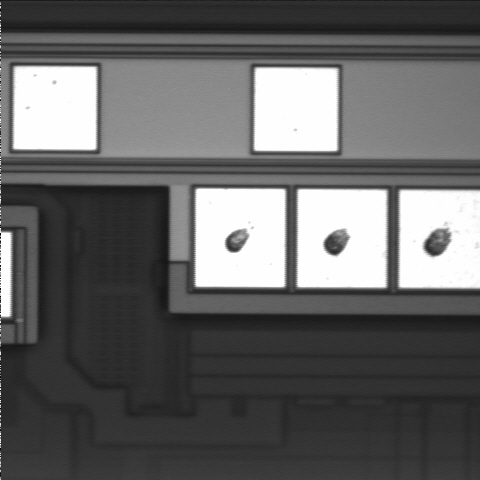pad: (297, 189, 387, 288), (196, 189, 285, 287), (254, 68, 338, 151), (13, 67, 96, 150)
